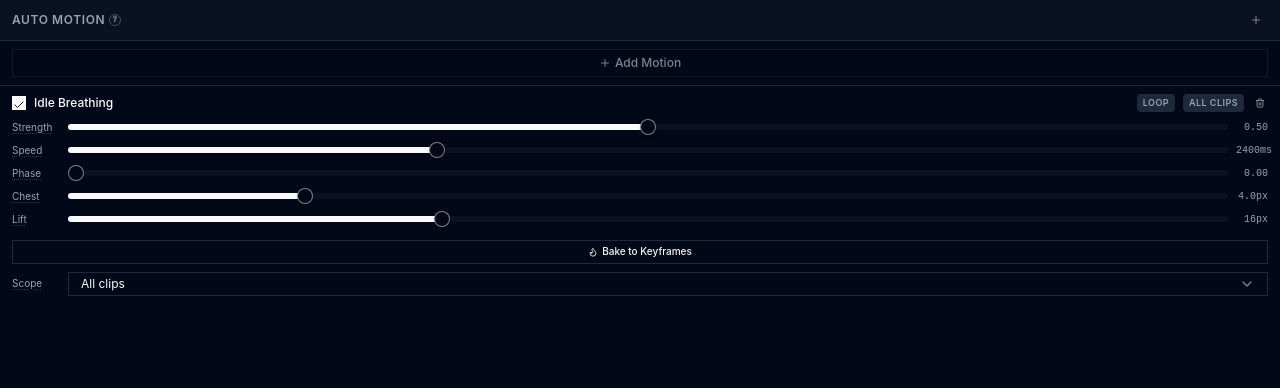
it: AutoMotionPanel › clicking Bake opens inline bake dialog
Click the button "Bake to Keyframes".
click(640, 252)  # box [12,240,1268,264]
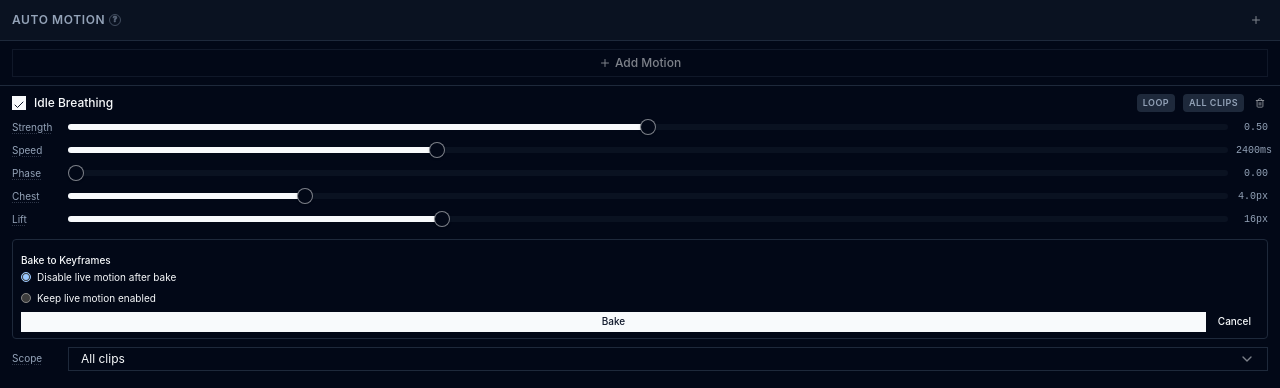
Now the text "Disable live motion after bake" is shown, box [37,270,176,284]
Now the text "Keep live motion enabled" is shown, box [37,290,156,306]
